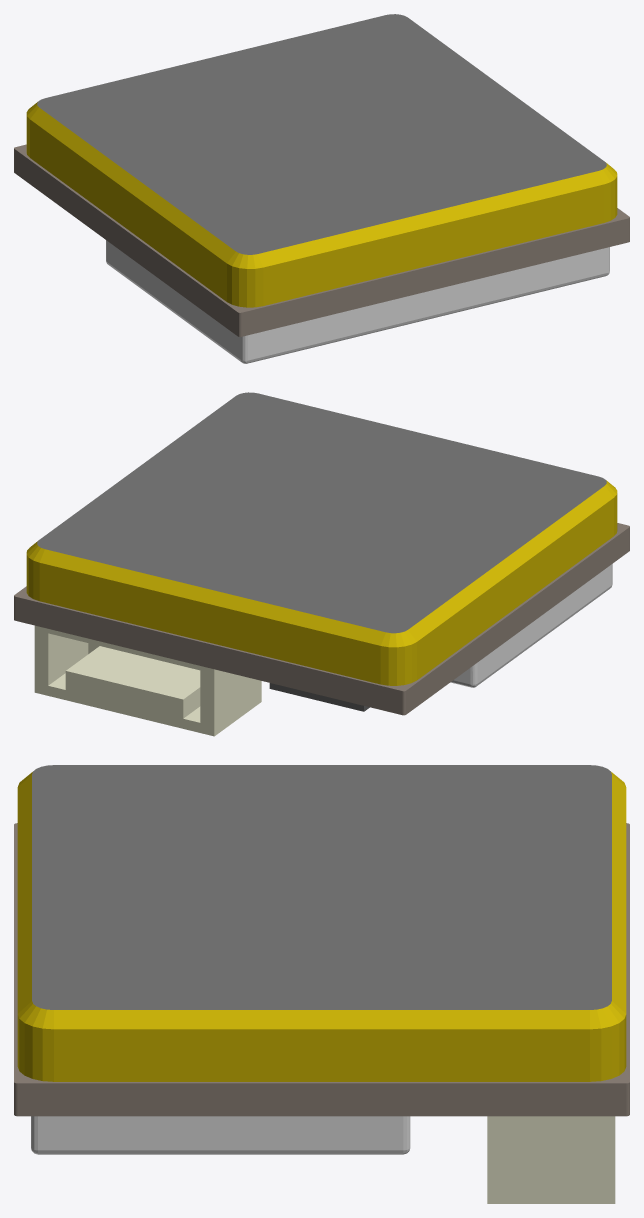
Rendered from model_foxeer_m10q_180-BGauqatA.glb.
The picture shows the model from 3 angles, top to bottom: view 1: azimuth 30°, elevation 25°; view 2: azimuth 150°, elevation 25°; view 3: azimuth 270°, elevation 25°; orthographic projection. The views are drawn at different scales.
Size of the model in its own units: 17 by 6 by 17.
